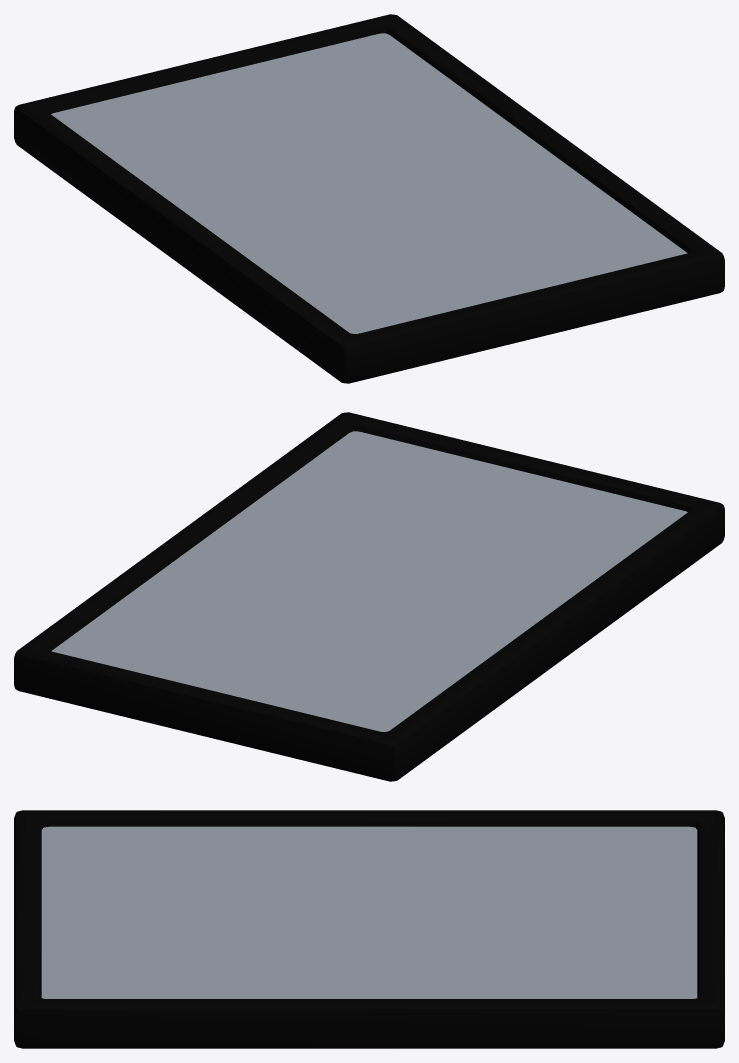
The model's file is heartbeat_Tablet.FBX.
3 views of the same model, one above another, from view 1: azimuth 30°, elevation 25°; view 2: azimuth 150°, elevation 25°; view 3: azimuth 270°, elevation 25° (orthographic). The views are drawn at different scales.
Visible parts, largest first — view 1: HeartBeat_Screen, HeartBeat_Tablet; view 2: HeartBeat_Screen, HeartBeat_Tablet; view 3: HeartBeat_Screen, HeartBeat_Tablet.
Boxes of the visible parts, bbox=[...] form: HeartBeat_Screen: bbox=[51, 33, 687, 333]; HeartBeat_Tablet: bbox=[14, 14, 724, 383]; HeartBeat_Screen: bbox=[51, 431, 687, 731]; HeartBeat_Tablet: bbox=[14, 412, 724, 781]; HeartBeat_Screen: bbox=[41, 826, 697, 998]; HeartBeat_Tablet: bbox=[14, 810, 724, 1048].
Bounding box in the file's own units: 23.62 × 2.36 × 35.43.
Materials: 2 (2 with a texture image).
